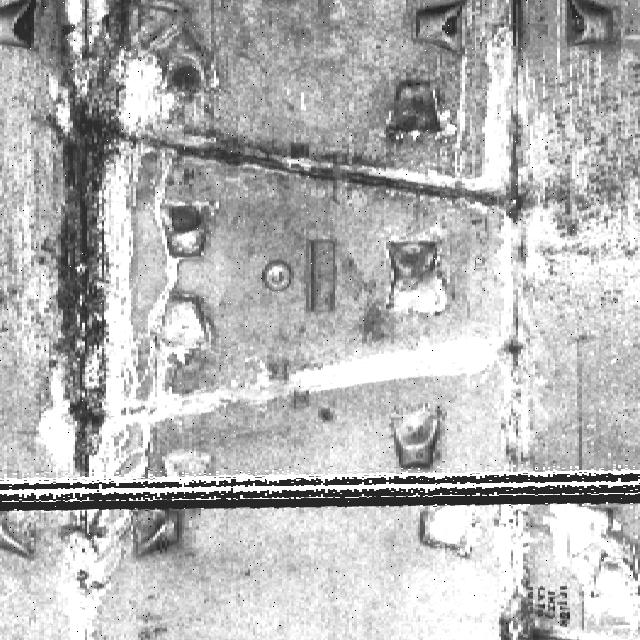leakage: (29, 1, 132, 636)
